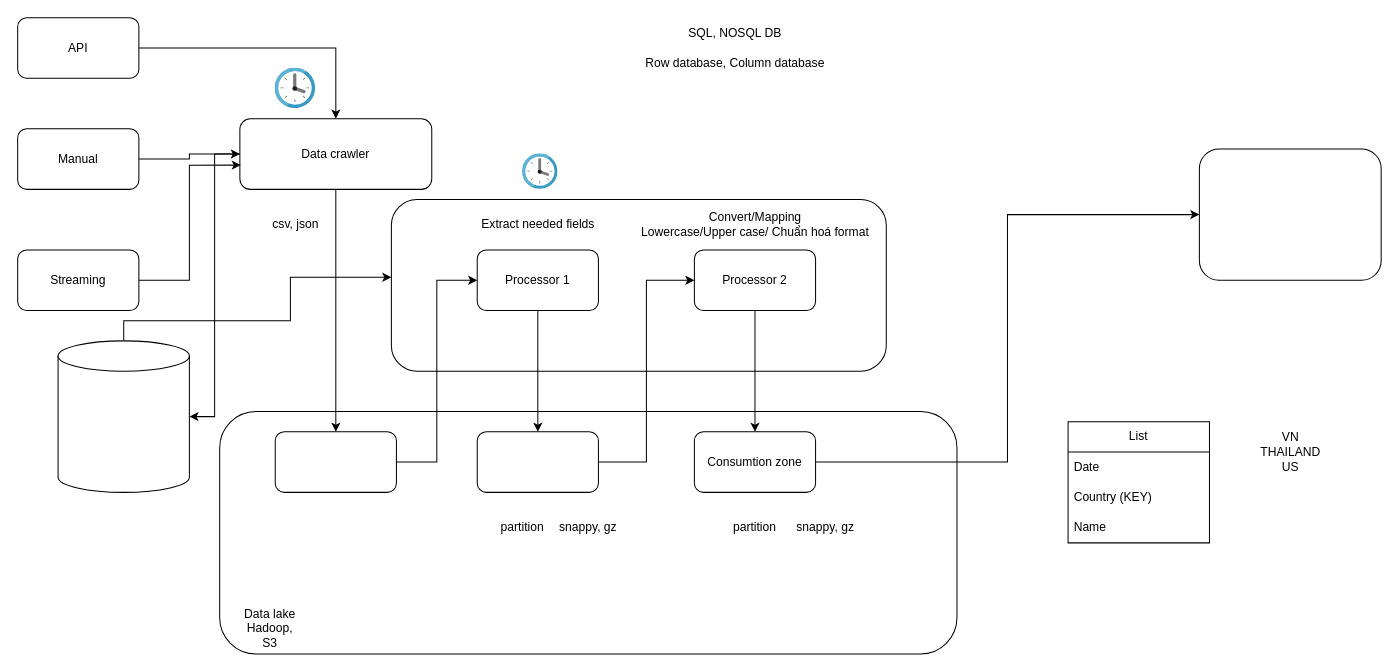
Image size: 1399x672. Some labels were removed from this diagram. Here are the shapes that lost their labels. From the top down, the box of each, then its label:
(1198, 148, 1381, 280): Analytics layer
(57, 340, 189, 492): Collector DB
(274, 431, 396, 492): Raw Zone
(476, 431, 598, 492): Staging zone
